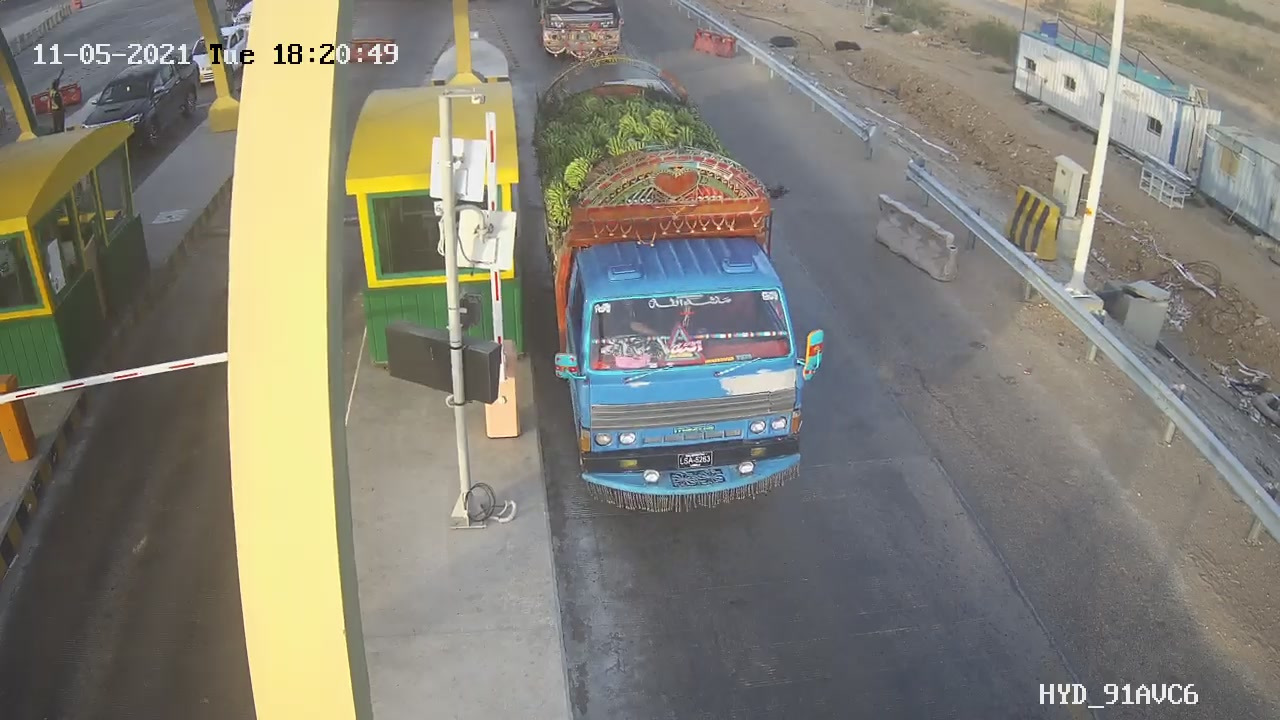F5: (521, 80, 848, 511)
